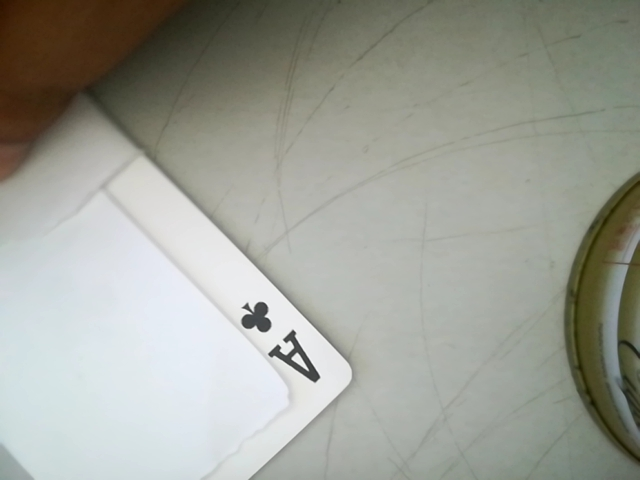mh a: (223, 287, 328, 399)
